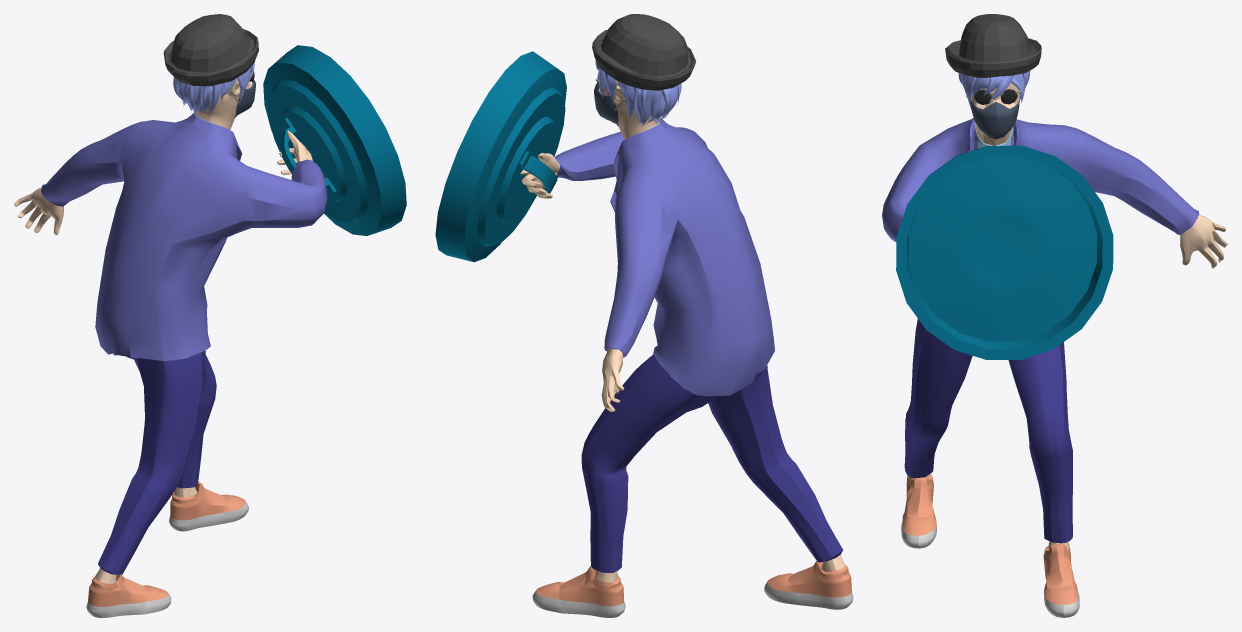
The model's file is Mahler.fbx.
3 views of the same model, side by side, from view 1: azimuth 30°, elevation 25°; view 2: azimuth 150°, elevation 25°; view 3: azimuth 270°, elevation 25° (orthographic). The views are drawn at different scales.
Parts seen in each view (by area): view 1: Malher_low, TrashCanLid:Lid_low, Hat_low, Hari_low, TrashCanLid:Handle_low; view 2: Malher_low, TrashCanLid:Lid_low, Hat_low, Hari_low, TrashCanLid:Handle_low; view 3: TrashCanLid:Lid_low, Malher_low, Hat_low, Hari_low.
Boxes of the visible parts, box(x1,y1,x2,y2) form: Malher_low: box(14, 79, 327, 617); TrashCanLid:Lid_low: box(263, 45, 406, 235); Hat_low: box(163, 14, 258, 86); Hari_low: box(173, 61, 254, 115); TrashCanLid:Handle_low: box(280, 117, 336, 196); Malher_low: box(520, 80, 853, 617); TrashCanLid:Lid_low: box(435, 51, 566, 262); Hat_low: box(592, 14, 696, 90); Hari_low: box(595, 42, 681, 126); TrashCanLid:Handle_low: box(519, 151, 557, 194); TrashCanLid:Lid_low: box(896, 145, 1113, 359); Malher_low: box(882, 82, 1227, 617); Hat_low: box(945, 14, 1041, 77); Hari_low: box(958, 70, 1030, 111).
Size of the model in its own units: 112 by 180 by 98.41.
